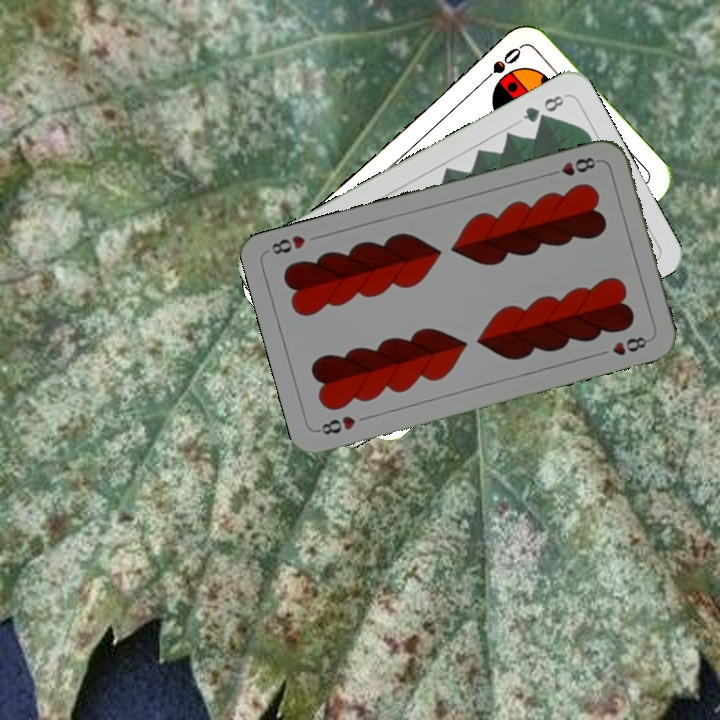G8: (518, 91, 567, 125)
H8: (544, 153, 602, 179), (314, 411, 359, 438)
SO: (476, 42, 524, 87)
